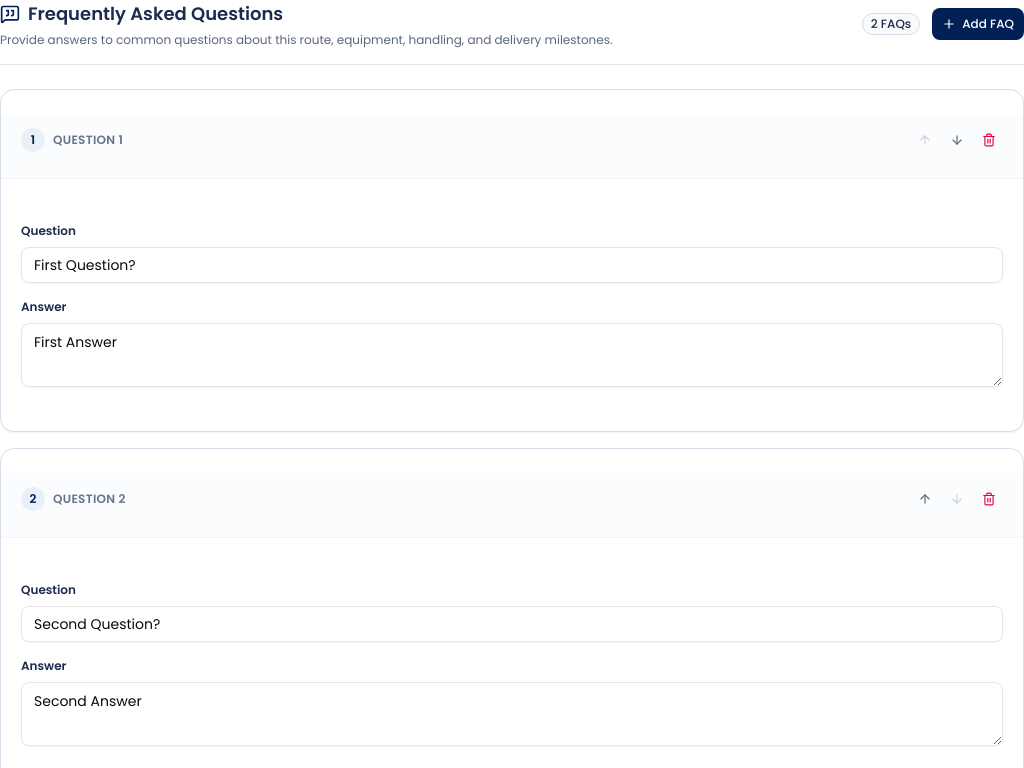
Test case: Empirical Component Stress Testing: FaqsTab › allows reordering and removing FAQ items
Expected: the text "2 FAQs" is shown, x1=862 y1=13 x2=920 y2=35
Expected: the button titled "Move question up" is disabled, x1=911 y1=126 x2=939 y2=154
// Click Move Down on the first question
Click the button titled "Move question down": (957, 140) x1=943 y1=126 x2=971 y2=154
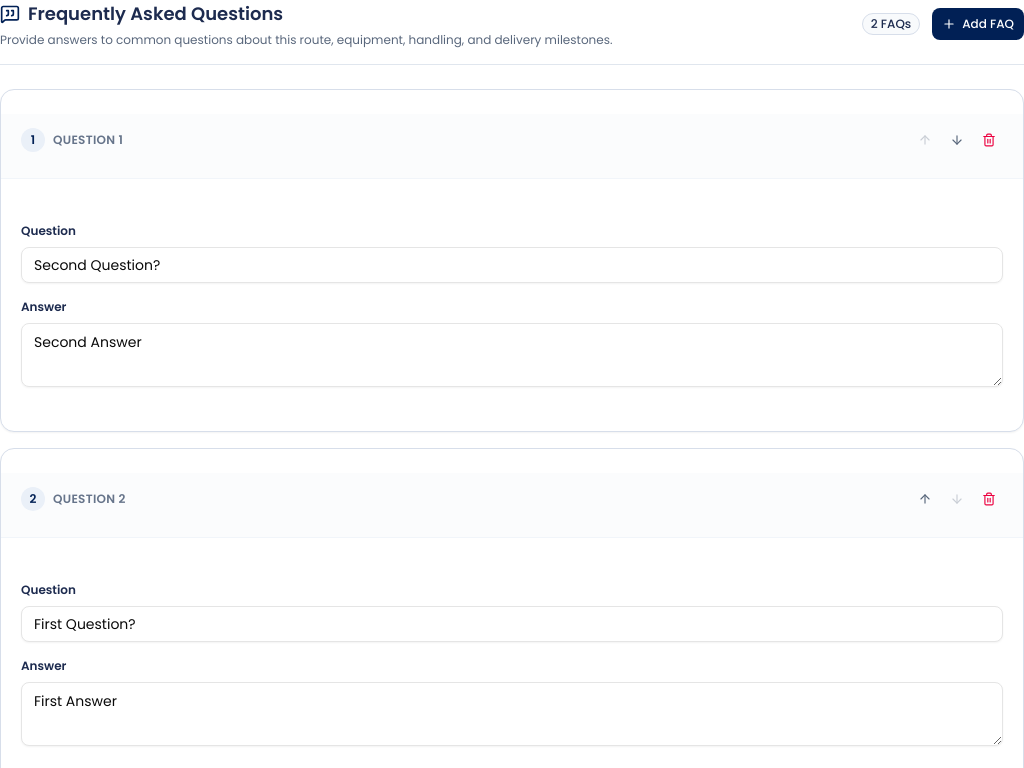
// Remove the first item
Click the button titled "Remove question": (989, 140) x1=975 y1=126 x2=1003 y2=154
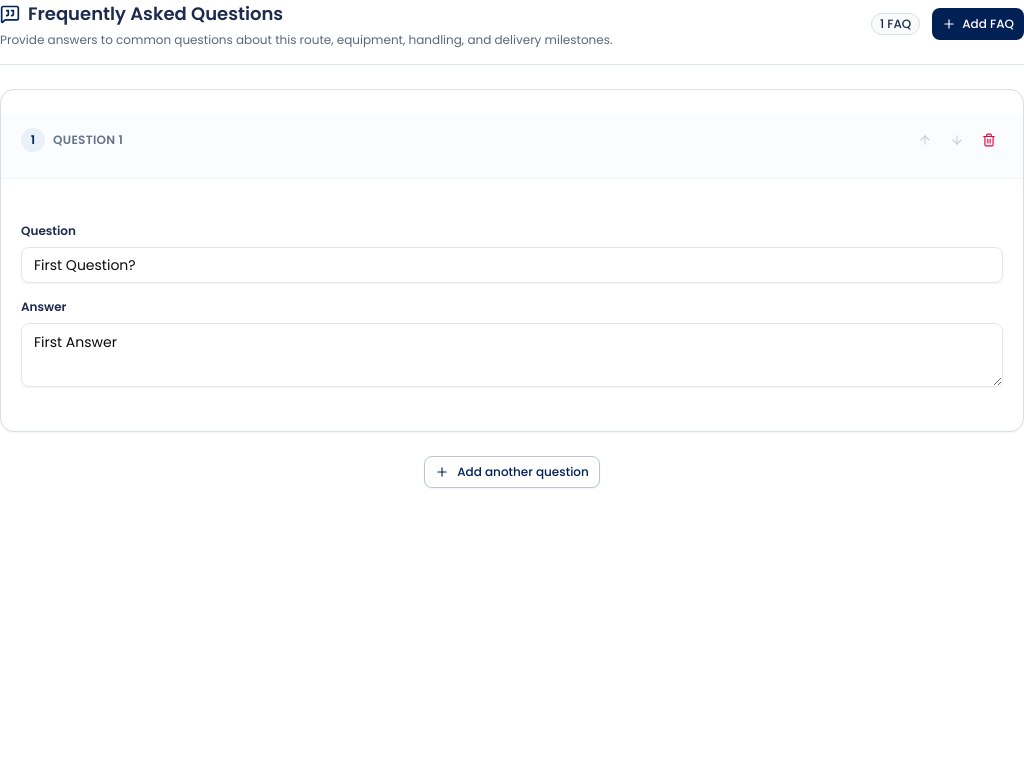
Click the button titled "Remove question": (989, 140) x1=975 y1=126 x2=1003 y2=154
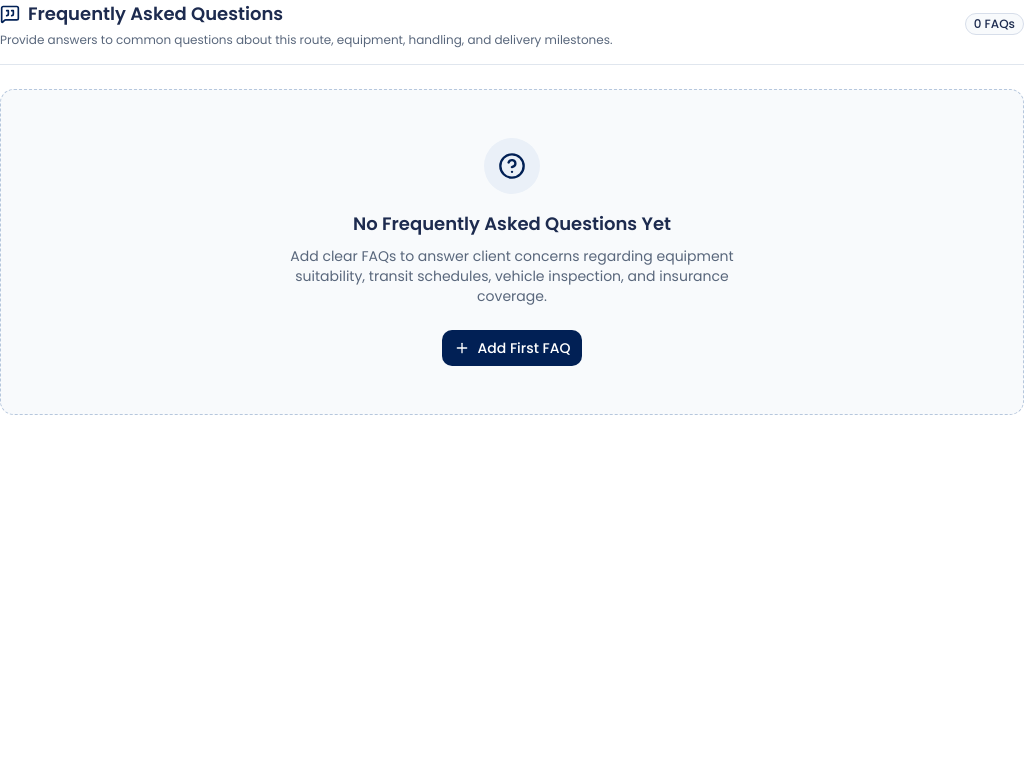
Now the heading "No Frequently Asked Questions Yet" is shown, box x1=353 y1=210 x2=671 y2=238
Now the text "0 FAQs" is shown, box x1=965 y1=13 x2=1023 y2=35
